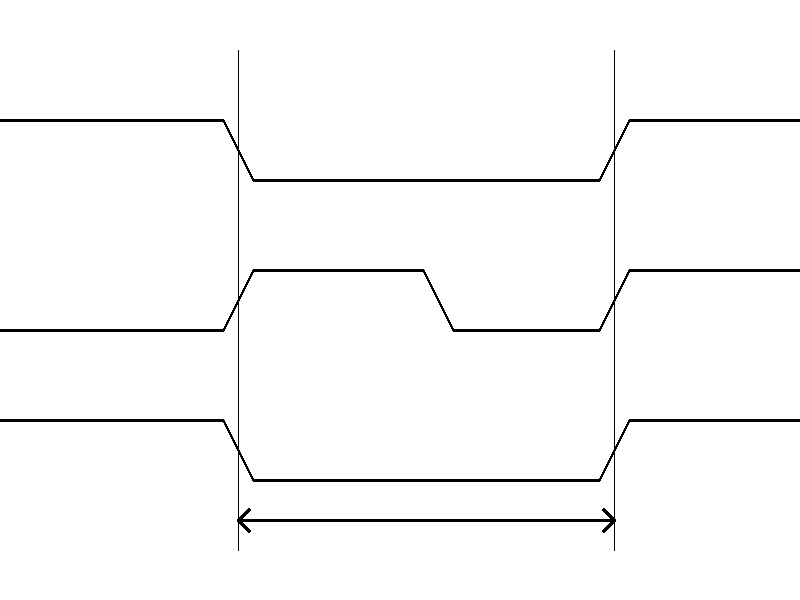double_arrow: (238, 505, 614, 535)
